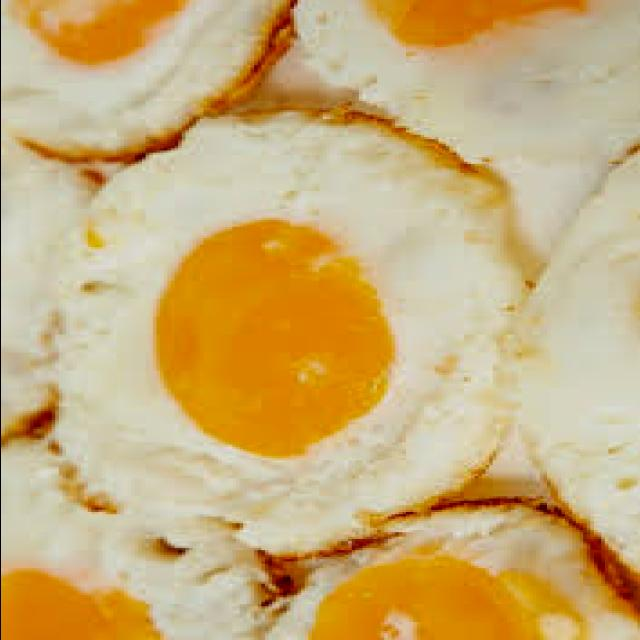telur ceplok: (54, 115, 521, 548)
